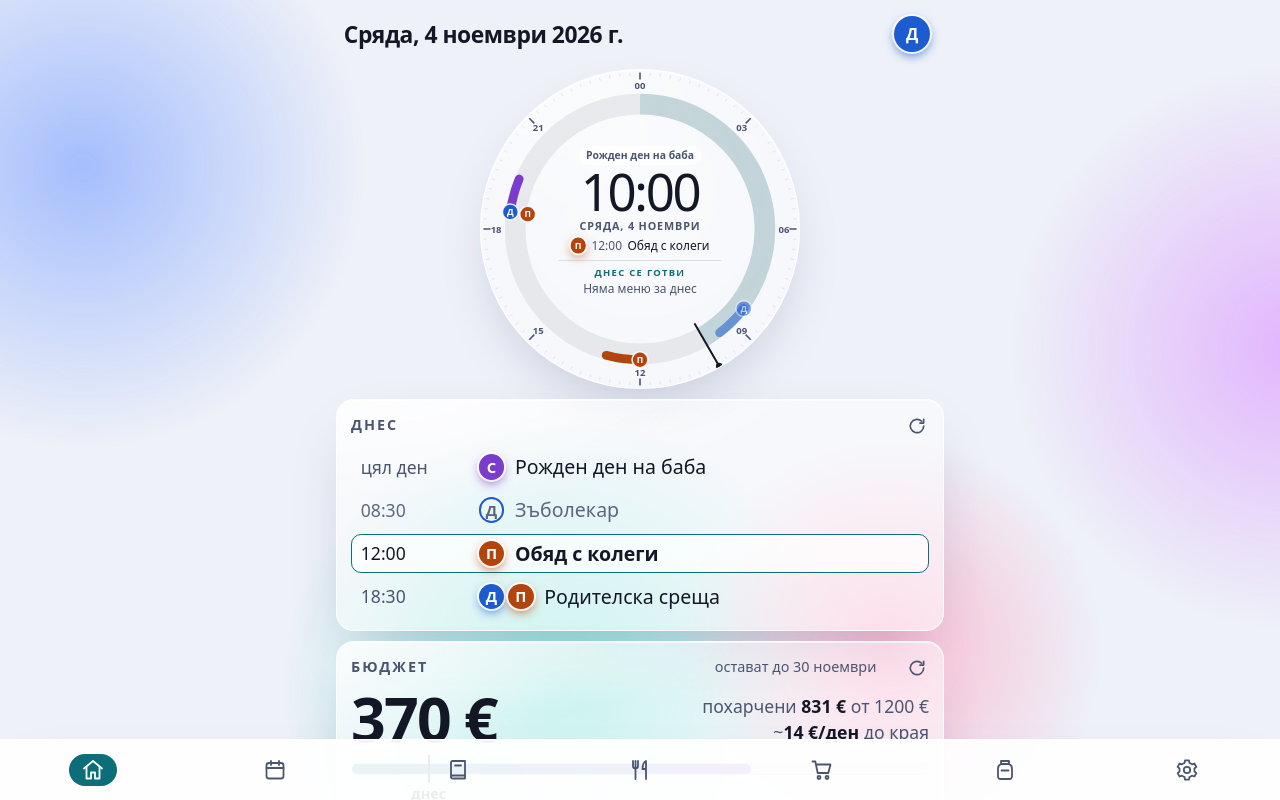
it: DashboardScreen › иконата за обновяване › на „Днес“ обновява календара; второ докосване по време на синхронизацията не пуска втора
Click the button named "Обнови календара" at (917, 426), box [893,402,941,450]
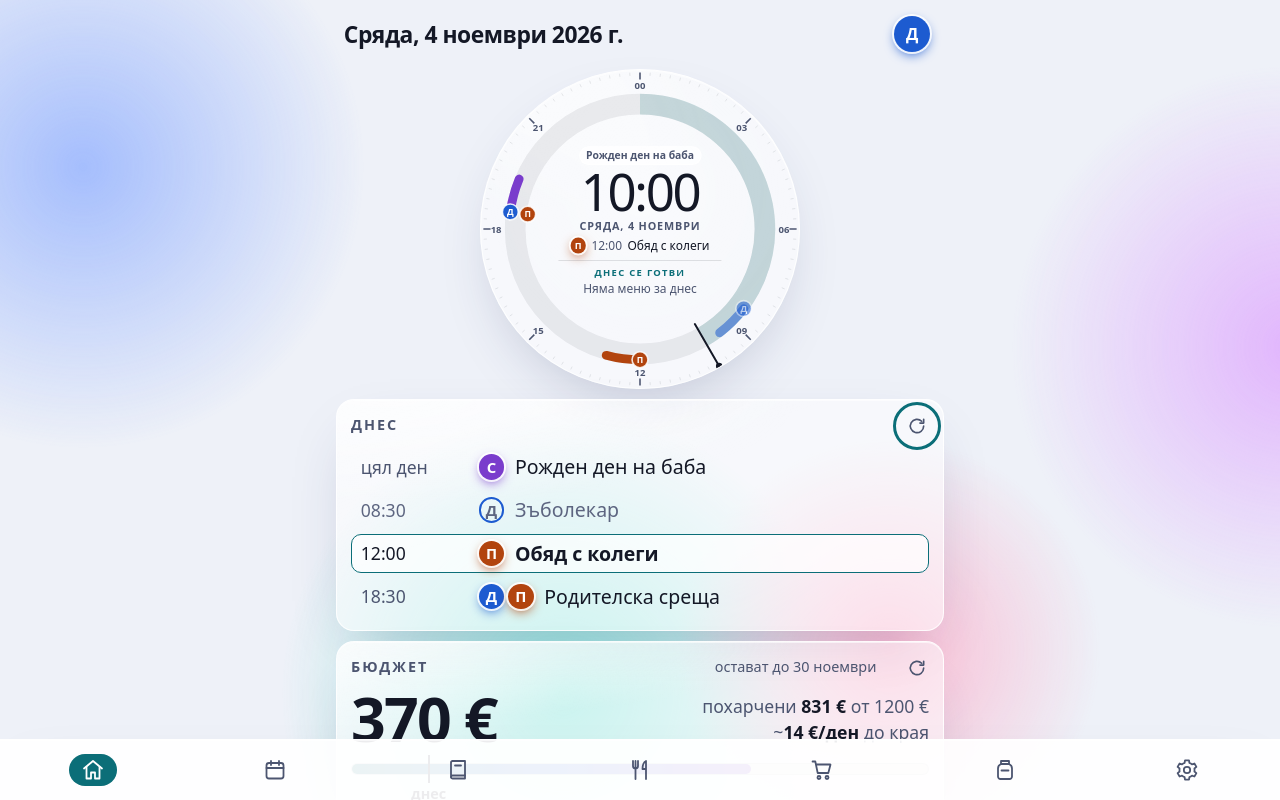
Click the button named "Обнови календара" at (917, 426), box [893,402,941,450]
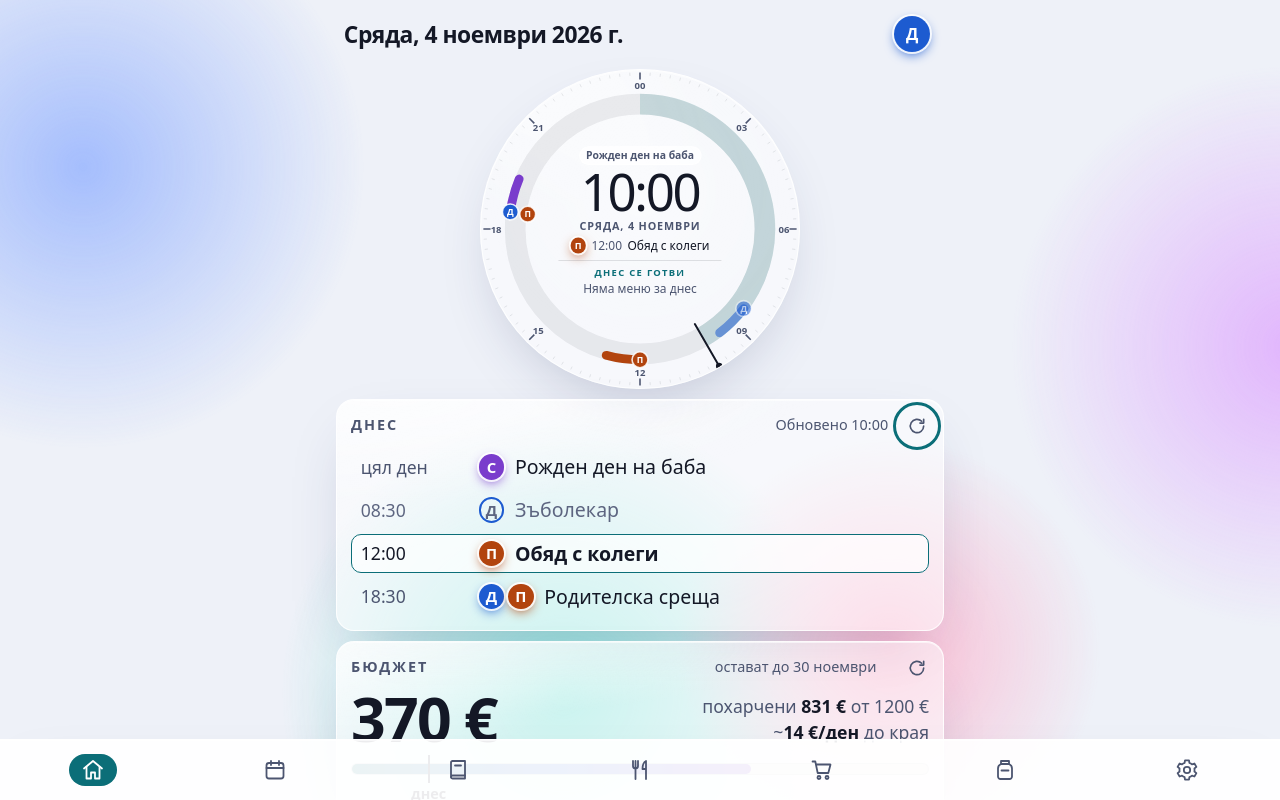
expect the text "Обновено 10:00" is shown: met, box [776,416,888,435]
